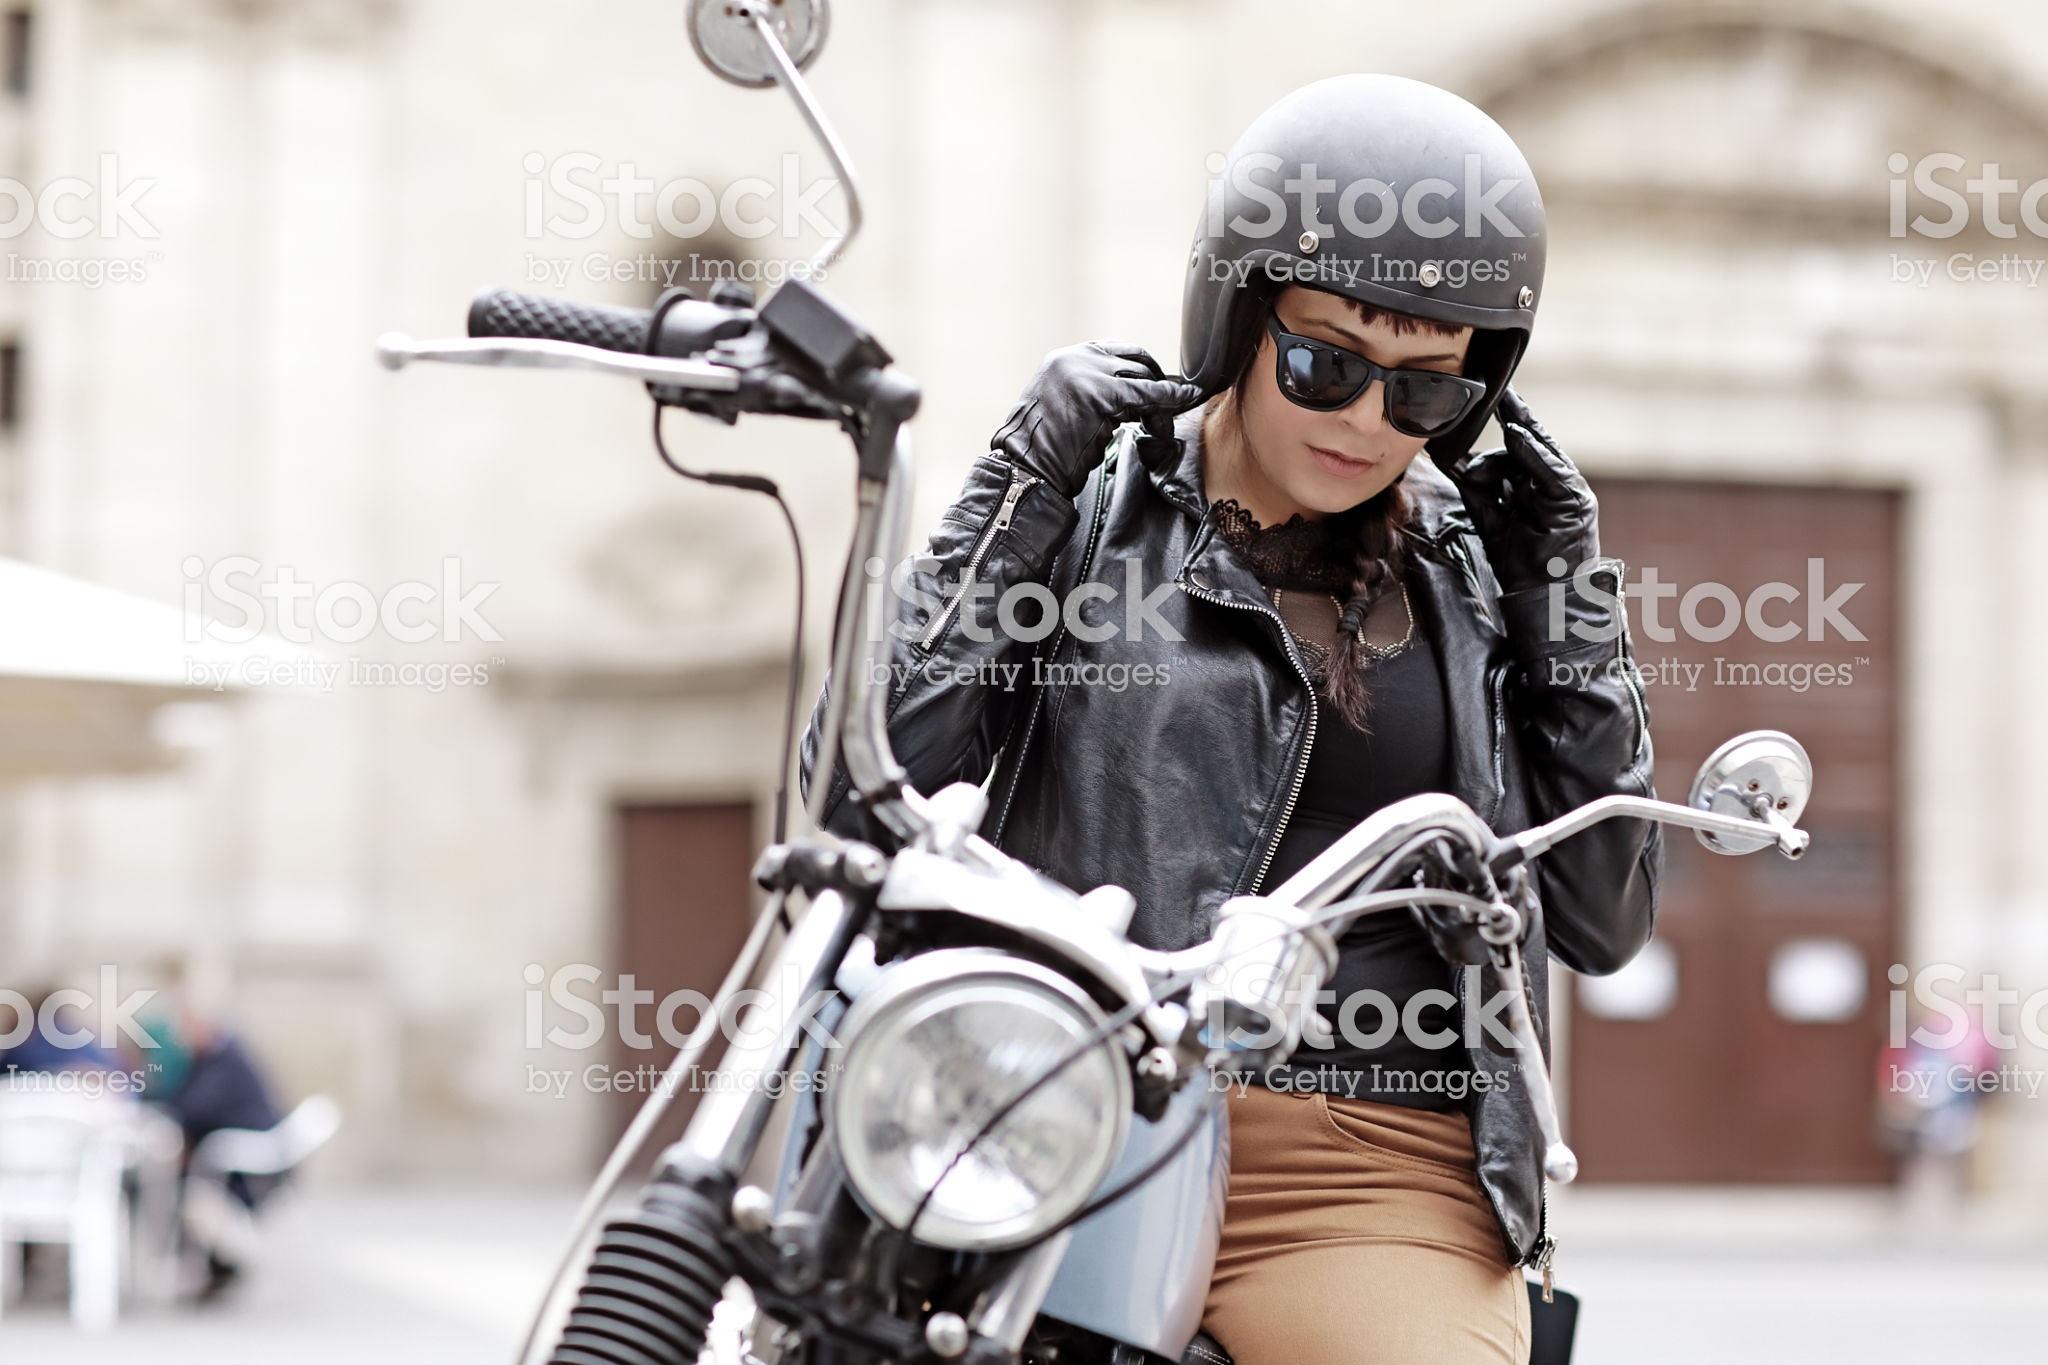helmet: (1185, 79, 1571, 436)
